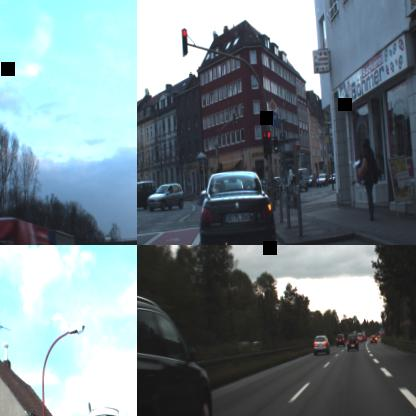go right or straight: (269, 110, 278, 127)
priority road: (268, 98, 277, 112)
